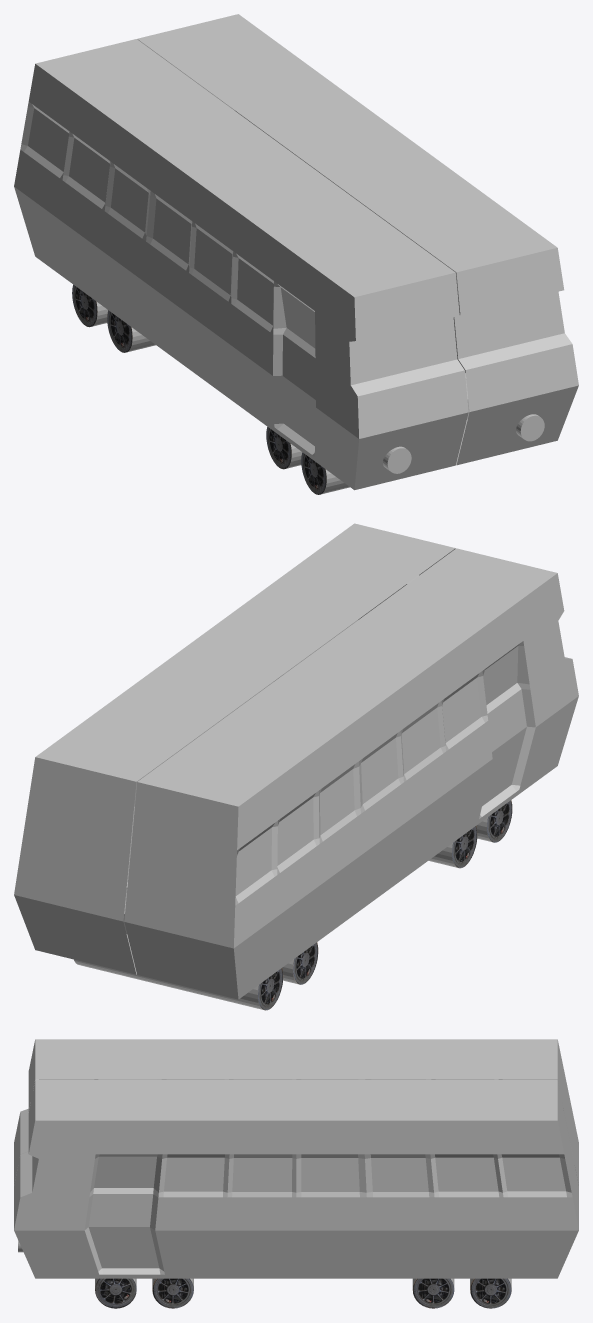
Rendered from metro.fbx.
3 renders of one model, top to bottom at view 1: azimuth 30°, elevation 25°; view 2: azimuth 150°, elevation 25°; view 3: azimuth 270°, elevation 25°, orthographic. The views are drawn at different scales.
Parts seen in each view (by area): view 1: Cube, Cube.009, Cube.008, Cube.011, Cube.012, Cube.007, Cube.013, Cube.002, Cube.005, Cube.001, Cube.010, Cube.006 (+6 smaller); view 2: Cube, Cube.009, Cube.011, Cube.012, Cube.007, Cube.002, Cube.005, Cube.001, Cube.006, Cube.003, Cube.010, Cube.004 (+5 smaller); view 3: Cube, Cube.009, Cube.012, Cube.011, Cube.007, Cube.010, Cube.005, Cube.001, Cube.006, Cube.002, Cube.003, Cube.004 (+5 smaller).
Part boxes in pixels (left/top/right/bottom): Cube: left=14, top=14, right=578, bottom=438; Cube.009: left=14, top=186, right=578, bottom=490; Cube.008: left=349, top=291, right=564, bottom=385; Cube.011: left=29, top=53, right=563, bottom=334; Cube.012: left=20, top=102, right=314, bottom=375; Cube.007: left=280, top=287, right=315, bottom=399; Cube.013: left=351, top=315, right=572, bottom=396; Cube.002: left=194, top=228, right=232, bottom=294; Cube.005: left=69, top=138, right=109, bottom=202; Cube.001: left=237, top=258, right=273, bottom=325; Cube.010: left=282, top=376, right=315, bottom=445; Cube.006: left=28, top=108, right=68, bottom=171; Cube: left=14, top=523, right=578, bottom=948; Cube.009: left=14, top=696, right=578, bottom=999; Cube.011: left=29, top=562, right=563, bottom=844; Cube.012: left=235, top=641, right=535, bottom=905; Cube.007: left=283, top=646, right=526, bottom=751; Cube.002: left=401, top=708, right=440, bottom=773; Cube.005: left=277, top=797, right=313, bottom=865; Cube.001: left=442, top=678, right=481, bottom=742; Cube.006: left=235, top=827, right=271, bottom=895; Cube.003: left=361, top=738, right=398, bottom=803; Cube.010: left=482, top=727, right=526, bottom=806; Cube.004: left=320, top=769, right=354, bottom=834; Cube: left=14, top=1039, right=578, bottom=1230; Cube.009: left=14, top=1151, right=578, bottom=1278; Cube.012: left=84, top=1079, right=572, bottom=1229; Cube.011: left=29, top=1056, right=563, bottom=1149; Cube.007: left=88, top=1079, right=156, bottom=1226; Cube.010: left=88, top=1227, right=159, bottom=1268; Cube.005: left=435, top=1079, right=498, bottom=1191; Cube.001: left=164, top=1079, right=224, bottom=1191; Cube.006: left=502, top=1079, right=565, bottom=1191; Cube.002: left=232, top=1079, right=292, bottom=1191; Cube.003: left=301, top=1079, right=359, bottom=1191; Cube.004: left=371, top=1079, right=428, bottom=1191.
Bounding box in the file's own units: 928 × 944 × 2523.
